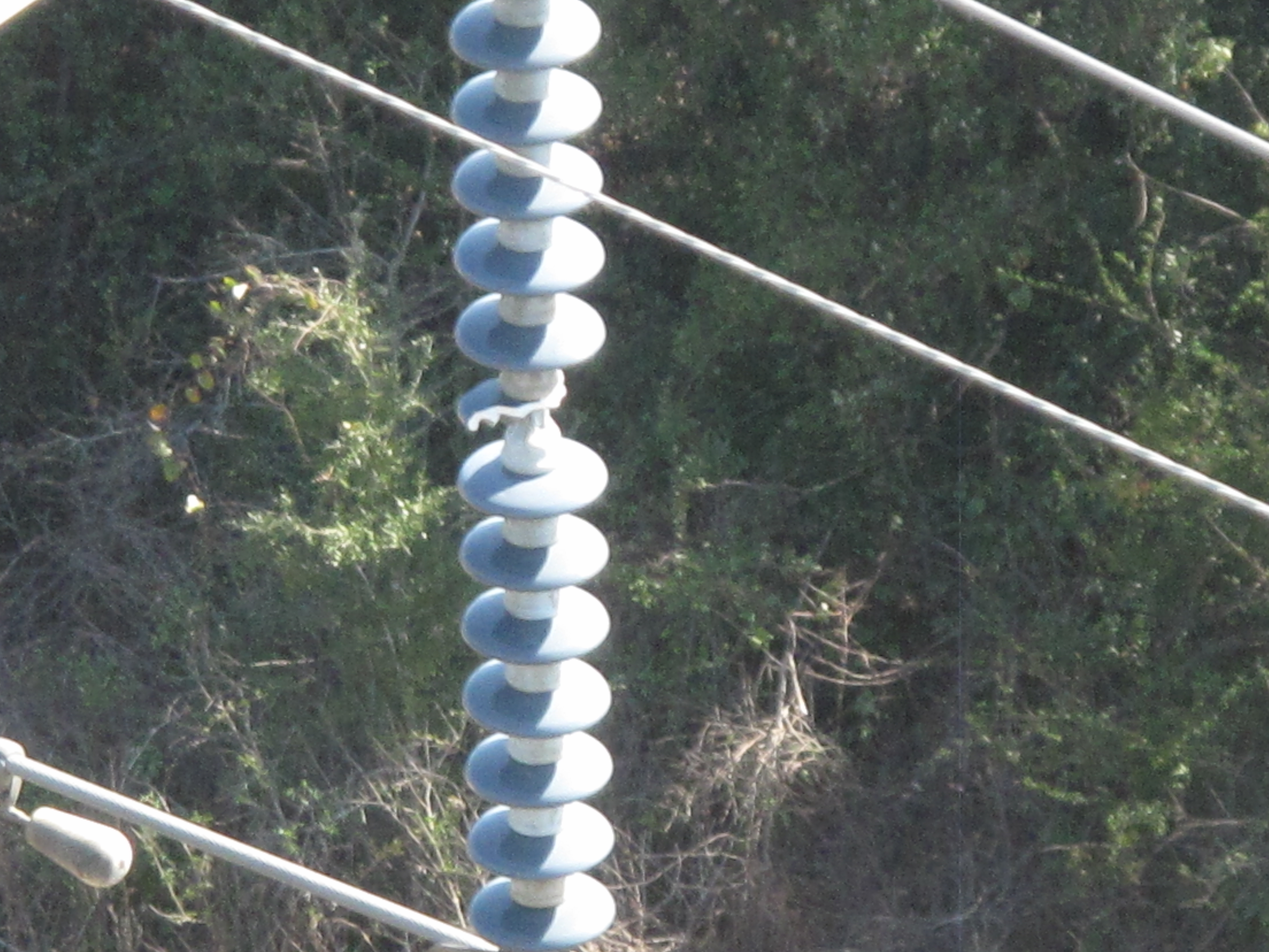damaged: (461, 366, 565, 434)
hammer: (0, 728, 145, 889)
insulator: (445, 1, 616, 950)
